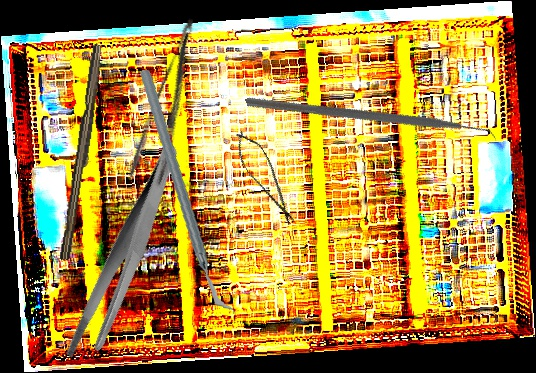Chopper: (244, 10, 501, 238), (114, 69, 259, 314)
Dressing Forceps: (24, 141, 229, 369), (125, 16, 222, 189)
Micro Scissor: (226, 124, 305, 231)
Scalpel Handle: (59, 43, 107, 262)
